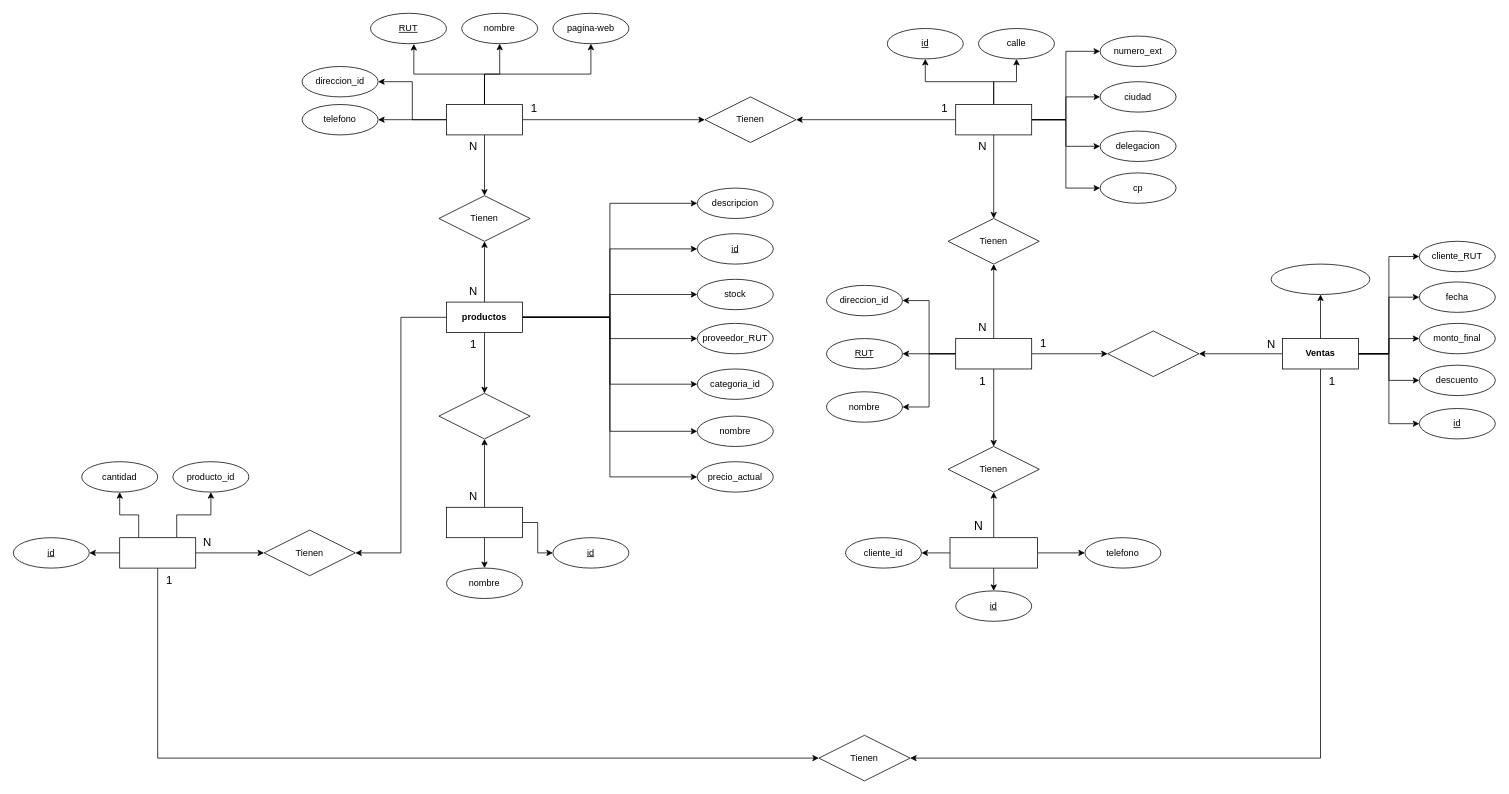
The diagram is 1509 pixels wide and 794 high, and some of its shapes have lost their labels. Each missing label, with the centre of its shape:
"categorias" goes at (x=484, y=522).
"clientes" goes at (x=993, y=353).
"detalles_venta_id" goes at (x=1320, y=278).
"detalles_ventas" goes at (x=157, y=552).
"direcciones" goes at (x=993, y=119).
"proveedores" goes at (x=484, y=119).
"Realizan Tiene" goes at (x=1153, y=353).
"telefonos_clientes" goes at (x=993, y=552).
"Tiene" goes at (x=484, y=416).
